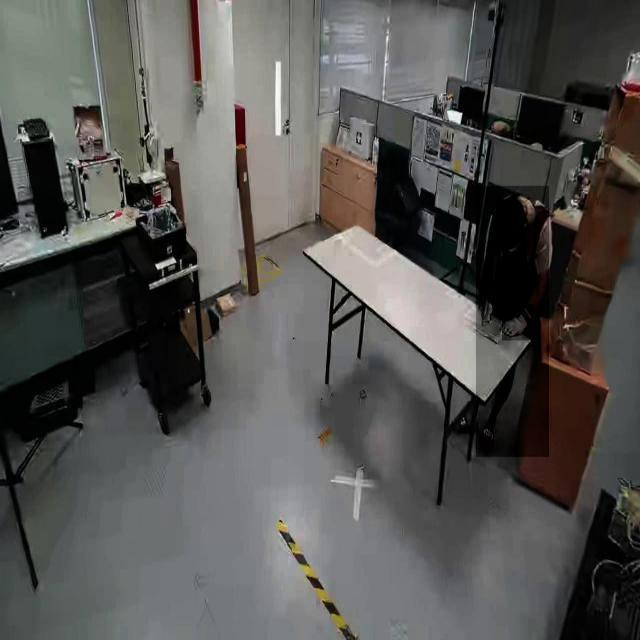gloves: (502, 304, 534, 342)
